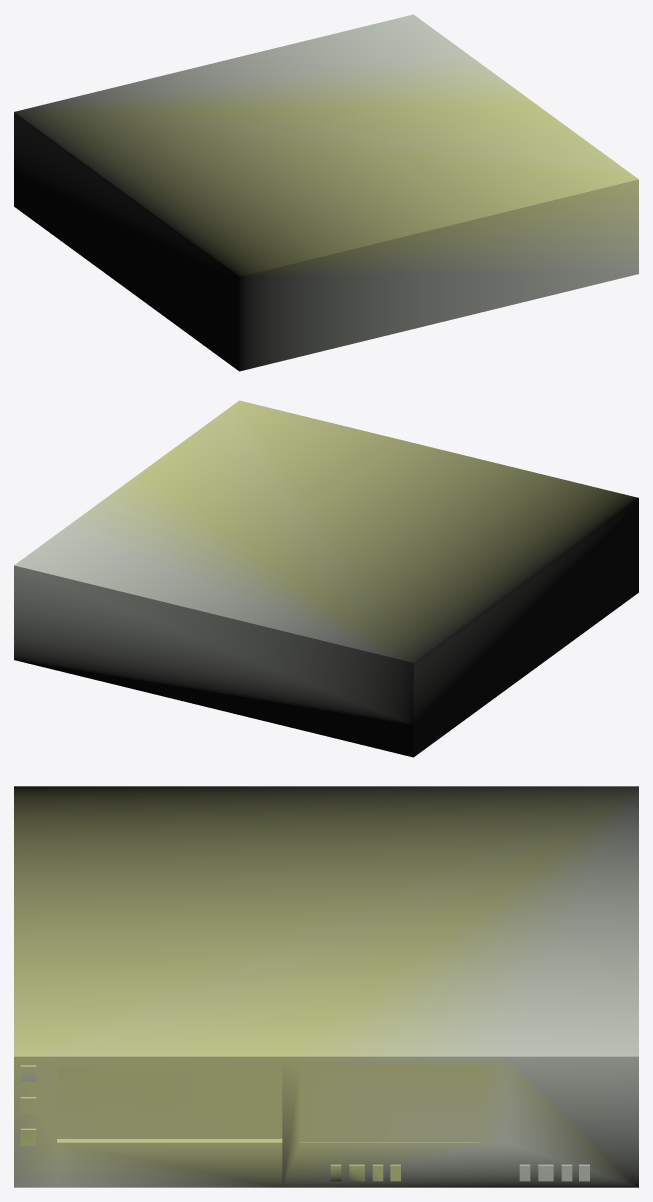
Rendered from TapePlayer.fbx.
3 renders of one model, top to bottom at view 1: azimuth 30°, elevation 25°; view 2: azimuth 150°, elevation 25°; view 3: azimuth 270°, elevation 25°, orthographic. The views are drawn at different scales.
Visible parts, largest first — view 1: Cube; view 2: Cube; view 3: Cube.
Part boxes in pixels (left/top/right/bottom): Cube: left=14, top=14, right=638, bottom=371; Cube: left=14, top=400, right=638, bottom=757; Cube: left=14, top=786, right=638, bottom=1187.
Bounding box in the file's own units: 183 × 41.3 × 178.
